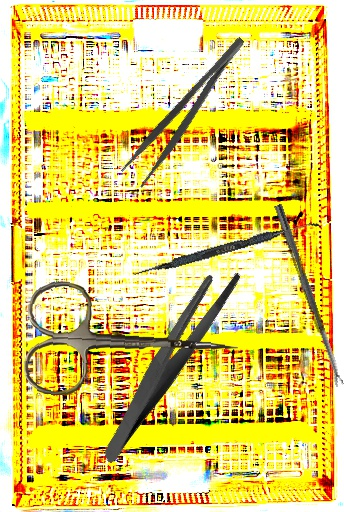Dressing Forceps: (59, 258, 278, 466), (118, 34, 260, 189)
Iris Scissors: (22, 278, 242, 408)
Spatula Surgical: (132, 215, 320, 282)
Surgical Spoon: (273, 203, 344, 388)
